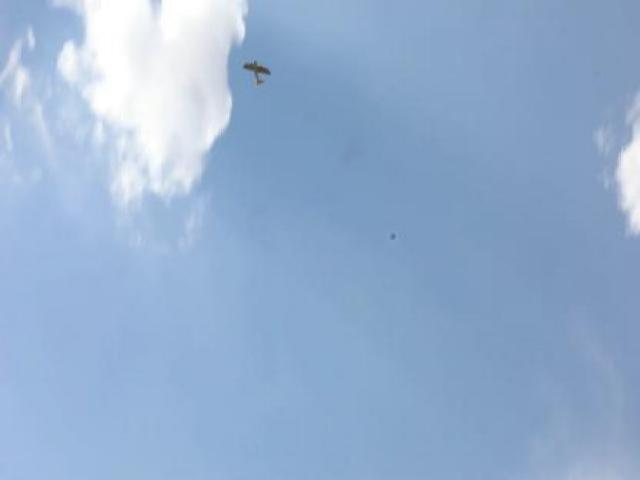uav: (241, 57, 273, 86)
